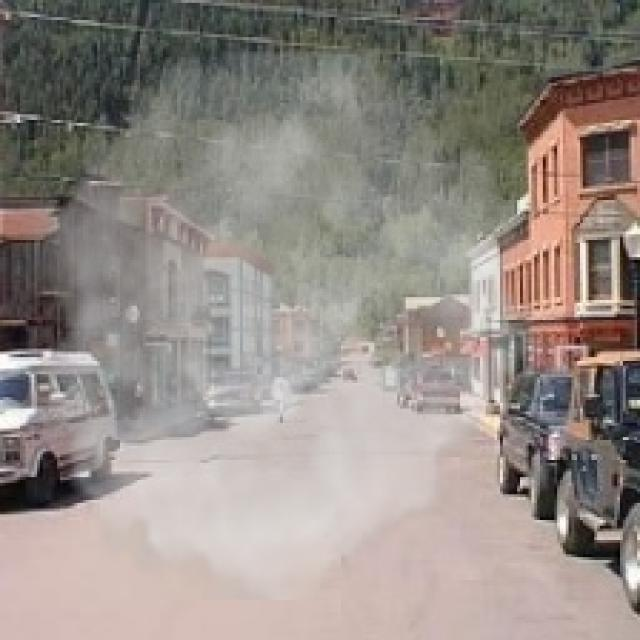smoke: (6, 51, 554, 600)
